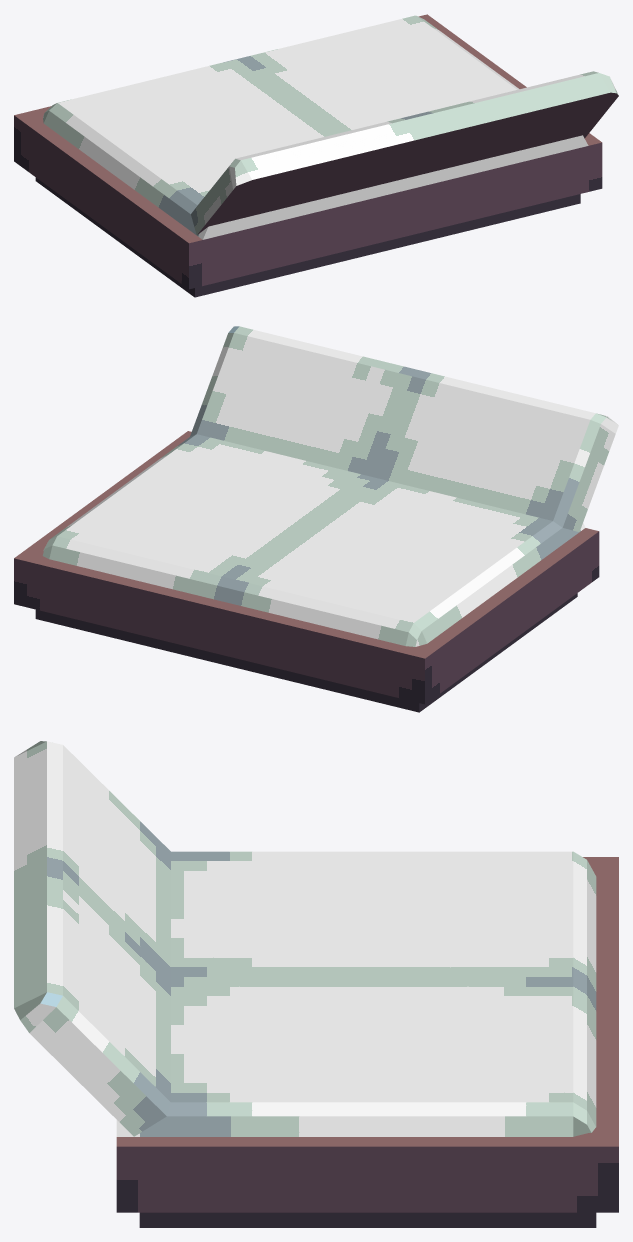
File: Sofa.gltf
3 views of the same model, one above another, from view 1: azimuth 30°, elevation 25°; view 2: azimuth 150°, elevation 25°; view 3: azimuth 270°, elevation 25° (orthographic). The views are drawn at different scales.
Parts seen in each view (by area): view 1: cuboid (×4); view 2: cuboid (×4); view 3: cuboid (×4).
Boxes of the visible parts, left/top/right/bottom form: cuboid (×4): left=14, top=14, right=618, bottom=297; cuboid (×4): left=14, top=326, right=618, bottom=712; cuboid (×4): left=14, top=741, right=618, bottom=1227.
Size of the model in its own units: 0.4688 by 0.1707 by 0.414.
1 material, 1 textured.
